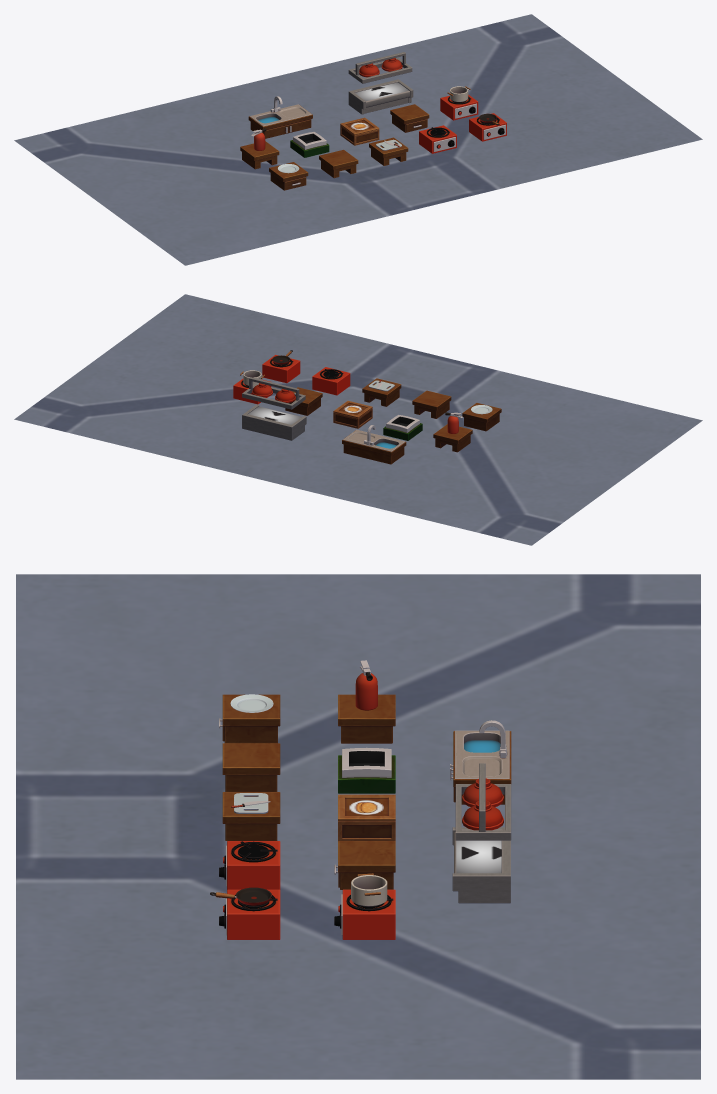
The model's file is overcooked_assets.obj.
The picture shows the model from 3 angles, top to bottom: view 1: azimuth 30°, elevation 25°; view 2: azimuth 150°, elevation 25°; view 3: azimuth 270°, elevation 25°; orthographic projection. The views are drawn at different scales.
Visible parts, largest first — view 1: Ground.001, Delivery_Counter.001, Sink.001, Stove, Kitchen_Cabin-2, Kitchen_Cabin, Garbage_Can.001, Stove.003, Stove.004, Kitchen_Cabin.006, Kitchen_Cabin-2.002, Kitchen_Cabin.003 (+2 smaller); view 2: Ground.001, Delivery_Counter.001, Sink.001, Stove, Kitchen_Cabin, Garbage_Can.001, Stove.003, Kitchen_Cabin.006, Kitchen_Cabin-2.002, Kitchen_Cabin.003, Kitchen_Cabin-2, Ingredients_Box (+1 smaller); view 3: Ground.001, Delivery_Counter.001, Sink.001, Kitchen_Cabin, Stove, Garbage_Can.001, Kitchen_Cabin.006, Stove.003, Kitchen_Cabin-2, Stove.004, Kitchen_Cabin-2.002, Kitchen_Cabin.003 (+4 smaller).
Part boxes in pixels (box(x1,y1,x2,y2)): Ground.001: box(14, 14, 702, 265); Delivery_Counter.001: box(348, 52, 413, 114); Sink.001: box(248, 96, 312, 138); Stove: box(419, 125, 456, 153); Kitchen_Cabin-2: box(390, 104, 429, 132); Kitchen_Cabin: box(319, 149, 358, 178); Garbage_Can.001: box(290, 132, 329, 157); Stove.003: box(469, 113, 506, 141); Stove.004: box(440, 94, 478, 120); Kitchen_Cabin.006: box(240, 141, 279, 169); Kitchen_Cabin-2.002: box(269, 162, 308, 190); Kitchen_Cabin.003: box(369, 137, 408, 165); Ground.001: box(14, 294, 702, 545); Delivery_Counter.001: box(242, 377, 306, 440); Sink.001: box(342, 425, 406, 464); Stove: box(312, 367, 350, 395); Kitchen_Cabin: box(412, 390, 451, 418); Garbage_Can.001: box(383, 415, 422, 440); Stove.003: box(262, 354, 300, 383); Kitchen_Cabin.006: box(433, 424, 472, 452); Kitchen_Cabin-2.002: box(462, 403, 501, 431); Kitchen_Cabin.003: box(362, 378, 401, 406); Kitchen_Cabin-2: box(285, 387, 322, 415); Ingredients_Box: box(333, 408, 372, 428); Ground.001: box(16, 574, 700, 1079); Delivery_Counter.001: box(452, 763, 511, 903); Sink.001: box(450, 720, 511, 804); Kitchen_Cabin: box(222, 743, 280, 791); Stove: box(219, 841, 280, 889); Garbage_Can.001: box(338, 747, 395, 793); Kitchen_Cabin.006: box(338, 694, 395, 743); Stove.003: box(219, 889, 280, 939); Kitchen_Cabin-2: box(334, 841, 395, 889); Stove.004: box(334, 889, 395, 939); Kitchen_Cabin-2.002: box(219, 694, 280, 743); Kitchen_Cabin.003: box(222, 792, 280, 840).
Bounding box in the file's own units: 41.42 × 3.52 × 23.73.
